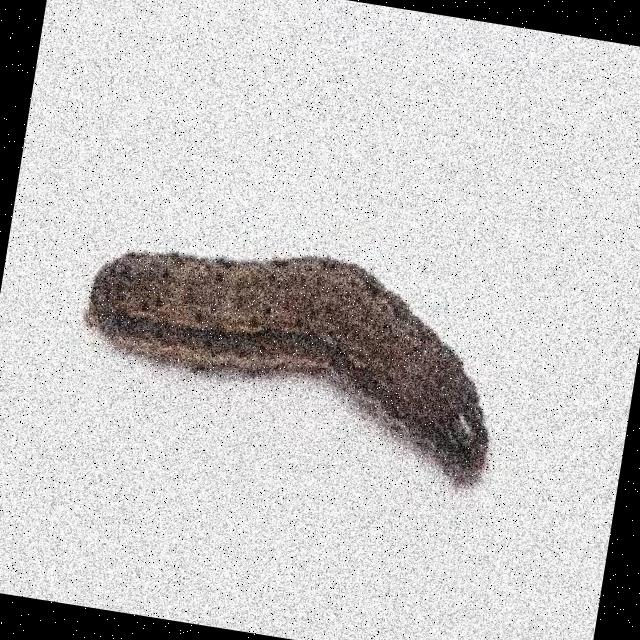worm: (68, 220, 517, 492)
